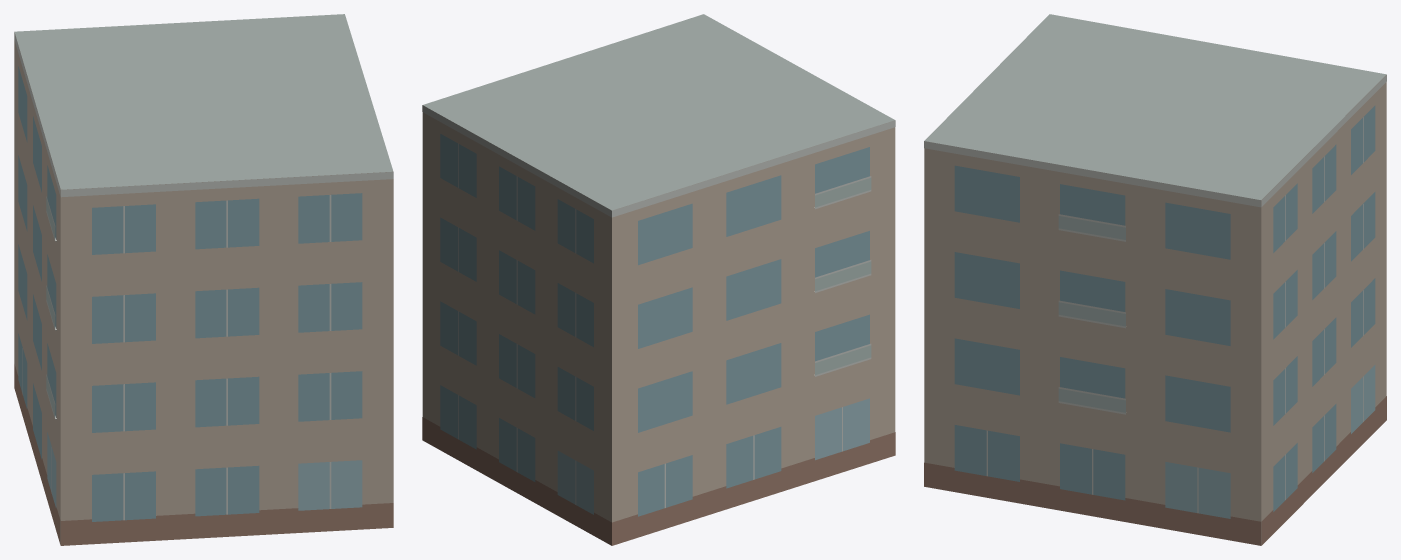
The model's file is survey-upis-32572608.glb.
The picture shows the model from 3 angles, left to right: view 1: azimuth 30°, elevation 25°; view 2: azimuth 150°, elevation 25°; view 3: azimuth 270°, elevation 25°; orthographic projection. The views are drawn at different scales.
Visible parts, largest first — view 1: survey-upis-32572608.tmp; view 2: survey-upis-32572608.tmp; view 3: survey-upis-32572608.tmp.
Boxes of the visible parts, left/top/right/bottom form: survey-upis-32572608.tmp: left=14, top=14, right=393, bottom=545; survey-upis-32572608.tmp: left=422, top=14, right=895, bottom=545; survey-upis-32572608.tmp: left=924, top=14, right=1386, bottom=545.
Size of the model in its own units: 13.53 by 11.7 by 14.2.
